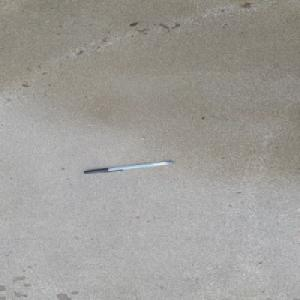Pen: (82, 160, 174, 174)
